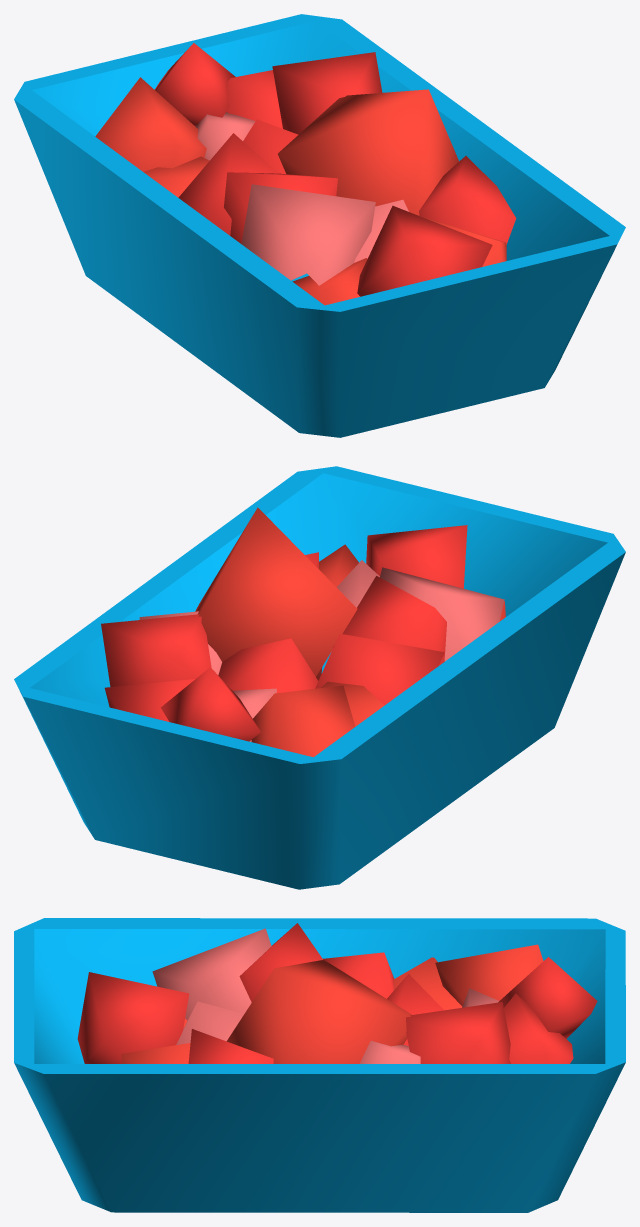
The model's file is Comida1.obj.
3 views of the same model, one above another, from view 1: azimuth 30°, elevation 25°; view 2: azimuth 150°, elevation 25°; view 3: azimuth 270°, elevation 25° (orthographic). The views are drawn at different scales.
Parts seen in each view (by area): view 1: dish_002; view 2: dish_002; view 3: dish_002.
Boxes of the visible parts, x1,y1,x2,y2 form: dish_002: (14,14,625,437); dish_002: (14,466,625,889); dish_002: (14,918,625,1212).
Size of the model in its own units: 3.91 by 2.62 by 6.49.
1 material, 1 textured.
